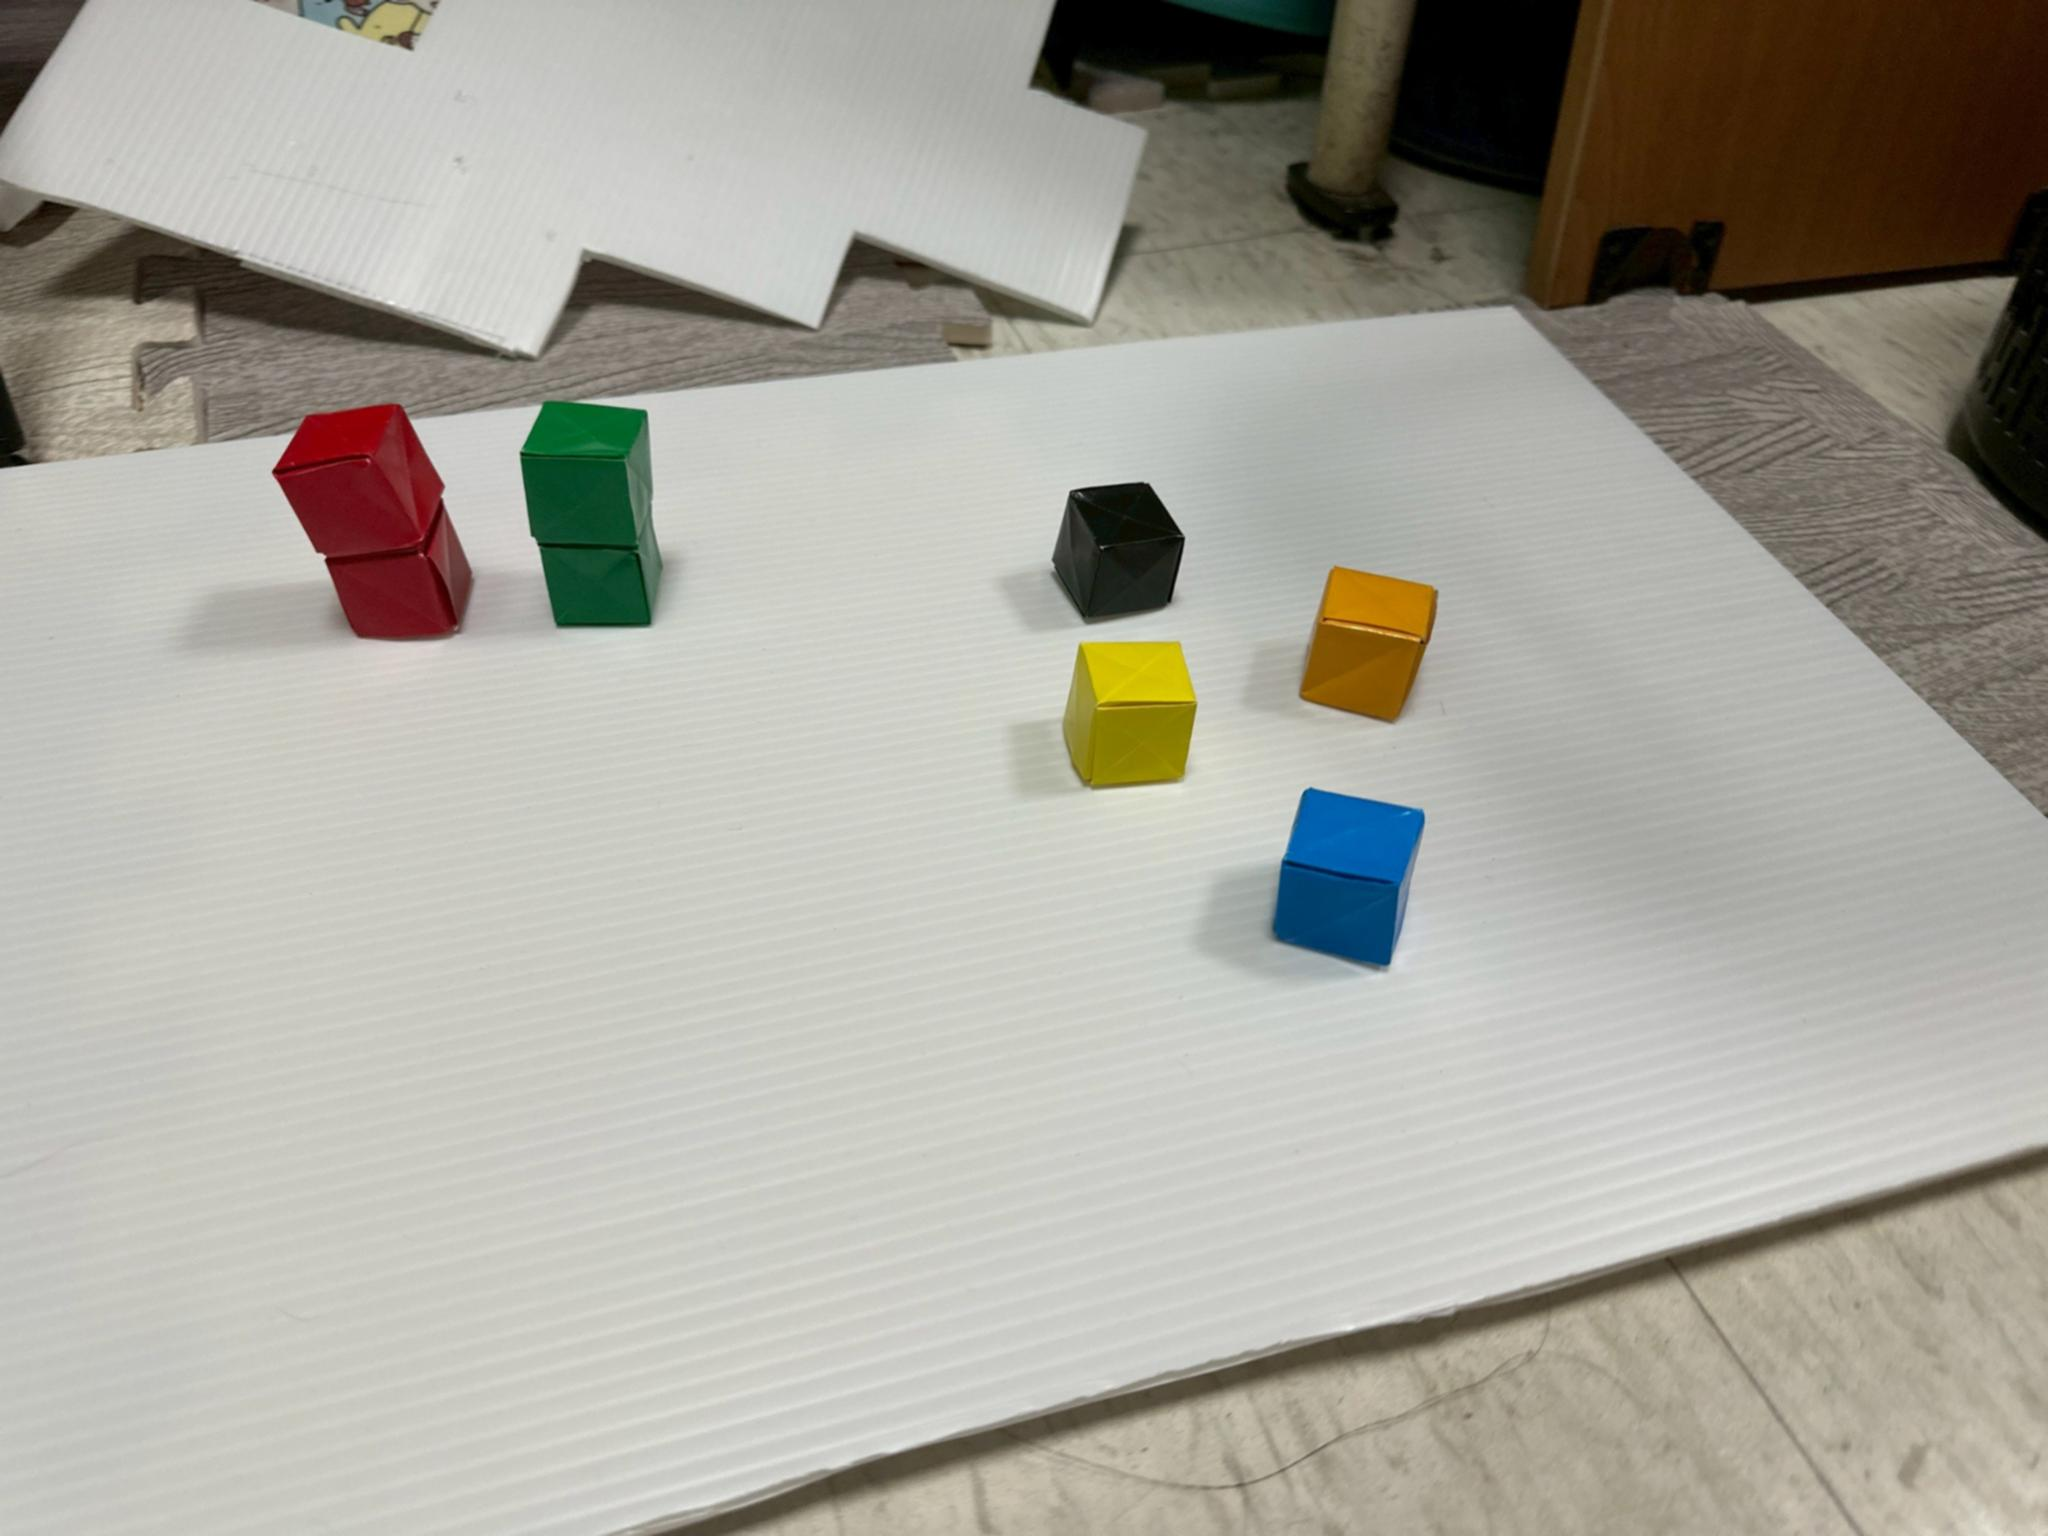cube: (1274, 789, 1426, 968), (274, 405, 443, 557), (1300, 568, 1437, 721), (1063, 642, 1197, 787), (327, 507, 472, 639), (521, 403, 653, 545), (1053, 482, 1184, 620), (540, 528, 661, 626)
